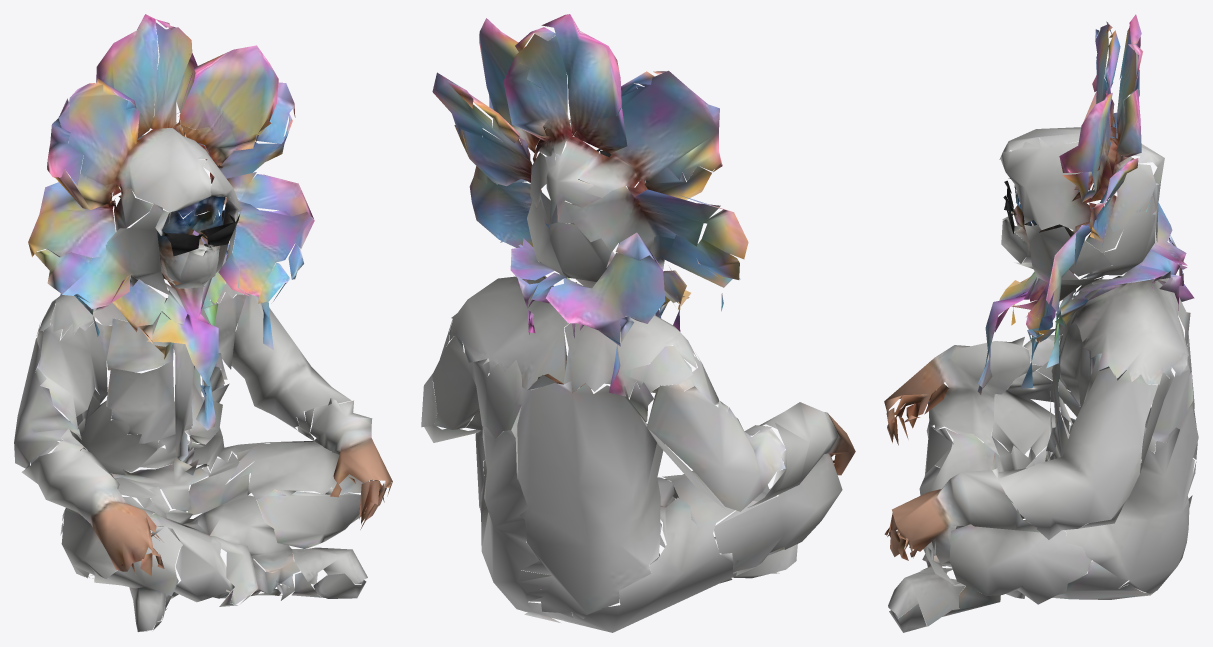
The model's file is seat_robber.glb.
3 renders of one model, left to right at view 1: azimuth 30°, elevation 25°; view 2: azimuth 150°, elevation 25°; view 3: azimuth 270°, elevation 25°, orthographic. The views are drawn at different scales.
Parts seen in each view (by area): view 1: tripo_node_d2d8d7c2-effa-49cc-8b4e-33de79e9e200; view 2: tripo_node_d2d8d7c2-effa-49cc-8b4e-33de79e9e200; view 3: tripo_node_d2d8d7c2-effa-49cc-8b4e-33de79e9e200.
Boxes of the visible parts, bbox=[...] form: tripo_node_d2d8d7c2-effa-49cc-8b4e-33de79e9e200: bbox=[14, 14, 392, 631]; tripo_node_d2d8d7c2-effa-49cc-8b4e-33de79e9e200: bbox=[421, 14, 855, 632]; tripo_node_d2d8d7c2-effa-49cc-8b4e-33de79e9e200: bbox=[884, 14, 1198, 632].
Size of the model in its own units: 0.6051 by 1 by 0.5039.
1 material, 1 textured.
